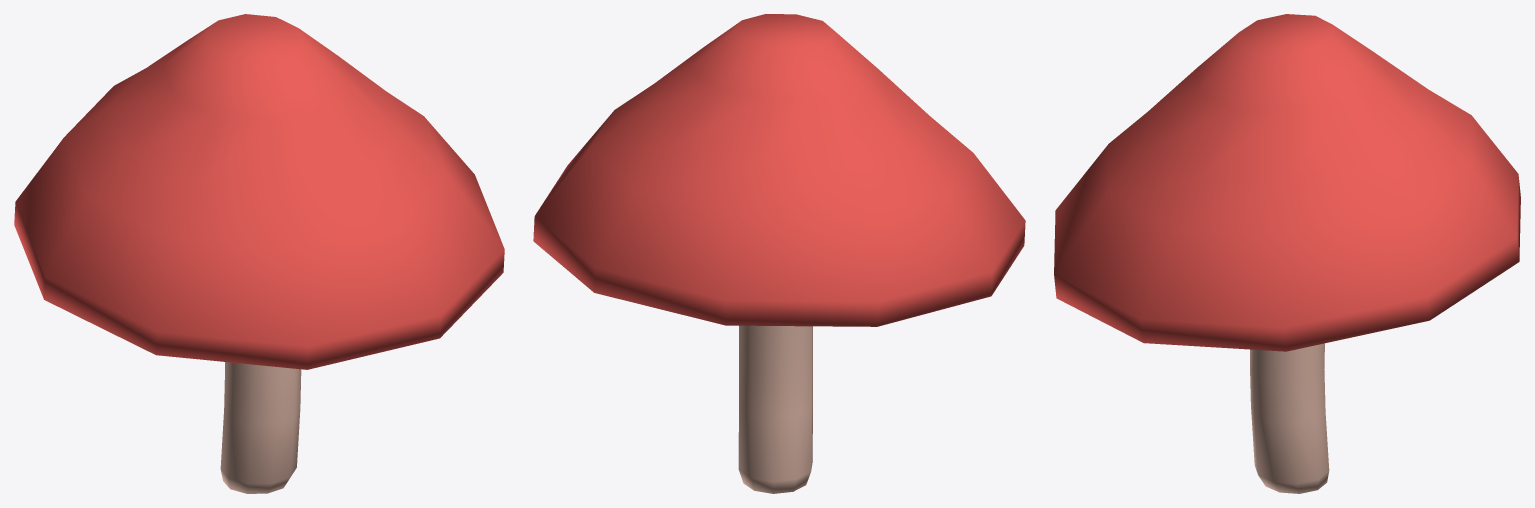
Rendered from BIGMUSHROOMTREE1.fbx.
3 renders of one model, left to right at view 1: azimuth 30°, elevation 25°; view 2: azimuth 150°, elevation 25°; view 3: azimuth 270°, elevation 25°, orthographic.
Parts seen in each view (by area): view 1: Cylinder.003; view 2: Cylinder.003; view 3: Cylinder.003.
Boxes of the visible parts, bbox=[...] form: Cylinder.003: bbox=[14, 14, 504, 493]; Cylinder.003: bbox=[533, 14, 1025, 493]; Cylinder.003: bbox=[1054, 14, 1520, 493].
Size of the model in its own units: 2772 by 2794 by 2647.
